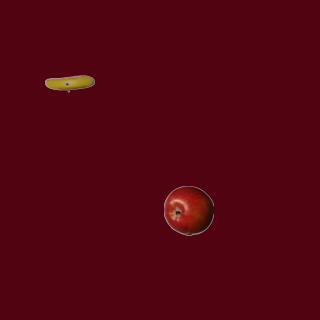Apple Braeburn: (163, 185, 213, 235)
Banana: (44, 58, 94, 108)
